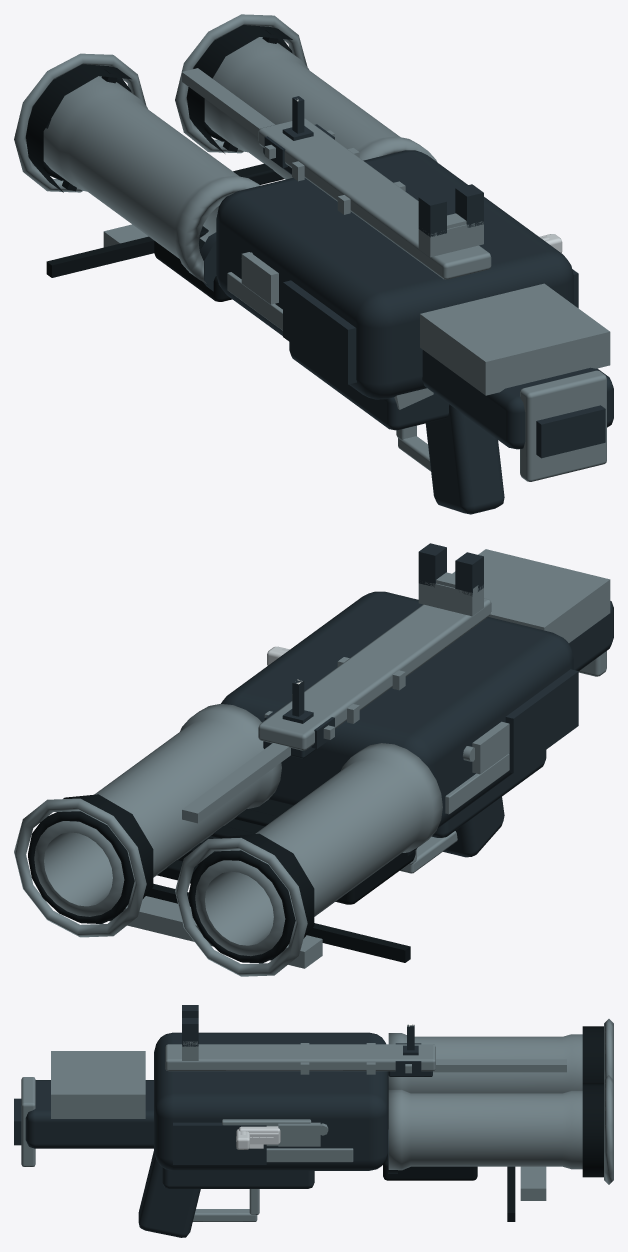
Rendered from weapon-3.glb.
3 views of the same model, one above another, from view 1: azimuth 30°, elevation 25°; view 2: azimuth 150°, elevation 25°; view 3: azimuth 270°, elevation 25° (orthographic). The views are drawn at different scales.
Parts seen in each view (by area): view 1: body-dark, barrel-assembly-light, body-light, barrel-assembly-cavity, feed-dark; view 2: barrel-assembly-light, body-dark, body-light, barrel-assembly-cavity; view 3: body-dark, barrel-assembly-light, body-light, barrel-assembly-cavity, bolt-trim.
Boxes of the visible parts, box(x1,y1,x2,y2) form: body-dark: box(216, 96, 613, 514); barrel-assembly-light: box(14, 14, 437, 283); body-light: box(227, 118, 610, 481); barrel-assembly-cavity: box(26, 25, 292, 301); feed-dark: box(200, 232, 216, 291); barrel-assembly-light: box(14, 703, 442, 976); body-dark: box(221, 543, 613, 857); body-light: box(258, 549, 610, 873); barrel-assembly-cavity: box(28, 794, 415, 963); body-dark: box(14, 1005, 432, 1237); barrel-assembly-light: box(388, 1019, 613, 1200); body-light: box(21, 1041, 435, 1221); barrel-assembly-cavity: box(383, 1026, 603, 1221); bolt-trim: box(236, 1126, 280, 1149).
Size of the model in its own units: 0.535 by 0.4326 by 1.08.
